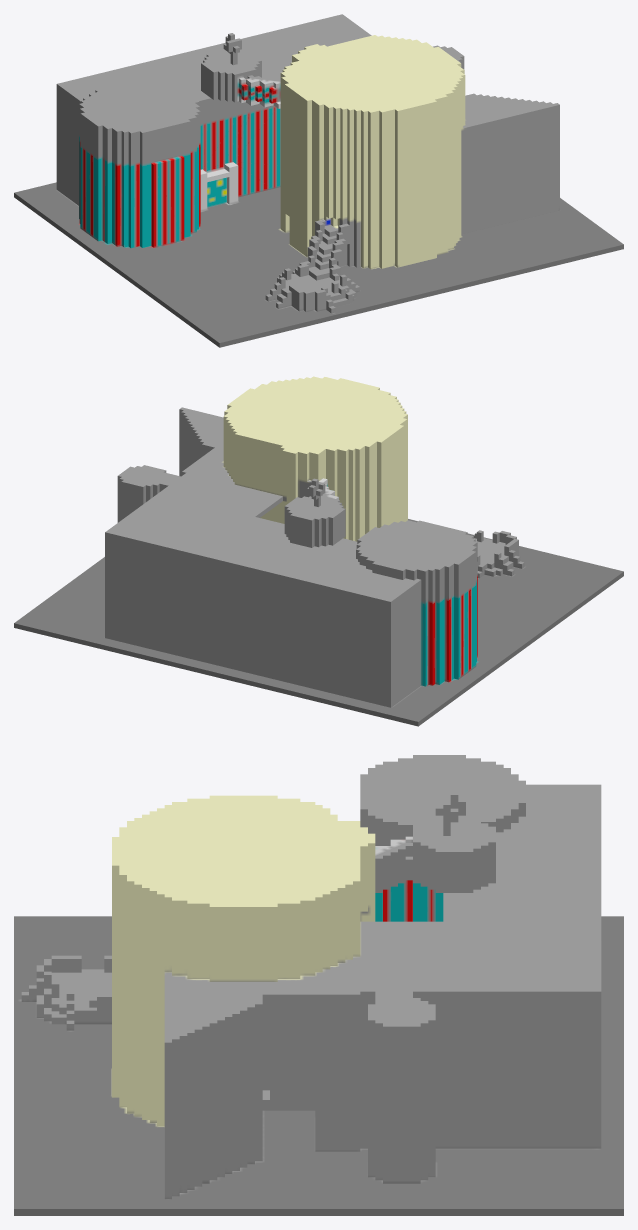
File: kagakukan.glb
3 renders of one model, top to bottom at view 1: azimuth 30°, elevation 25°; view 2: azimuth 150°, elevation 25°; view 3: azimuth 270°, elevation 25°, orthographic. The views are drawn at different scales.
Visible parts, largest first — view 1: kagakukan; view 2: kagakukan; view 3: kagakukan.
Boxes of the visible parts, <box> form: kagakukan: <box>14,14,623,347</box>; kagakukan: <box>14,376,623,726</box>; kagakukan: <box>14,755,623,1215</box>.
Size of the model in its own units: 1.84 by 0.72 by 1.62.
Materials: 1 (1 with a texture image).
